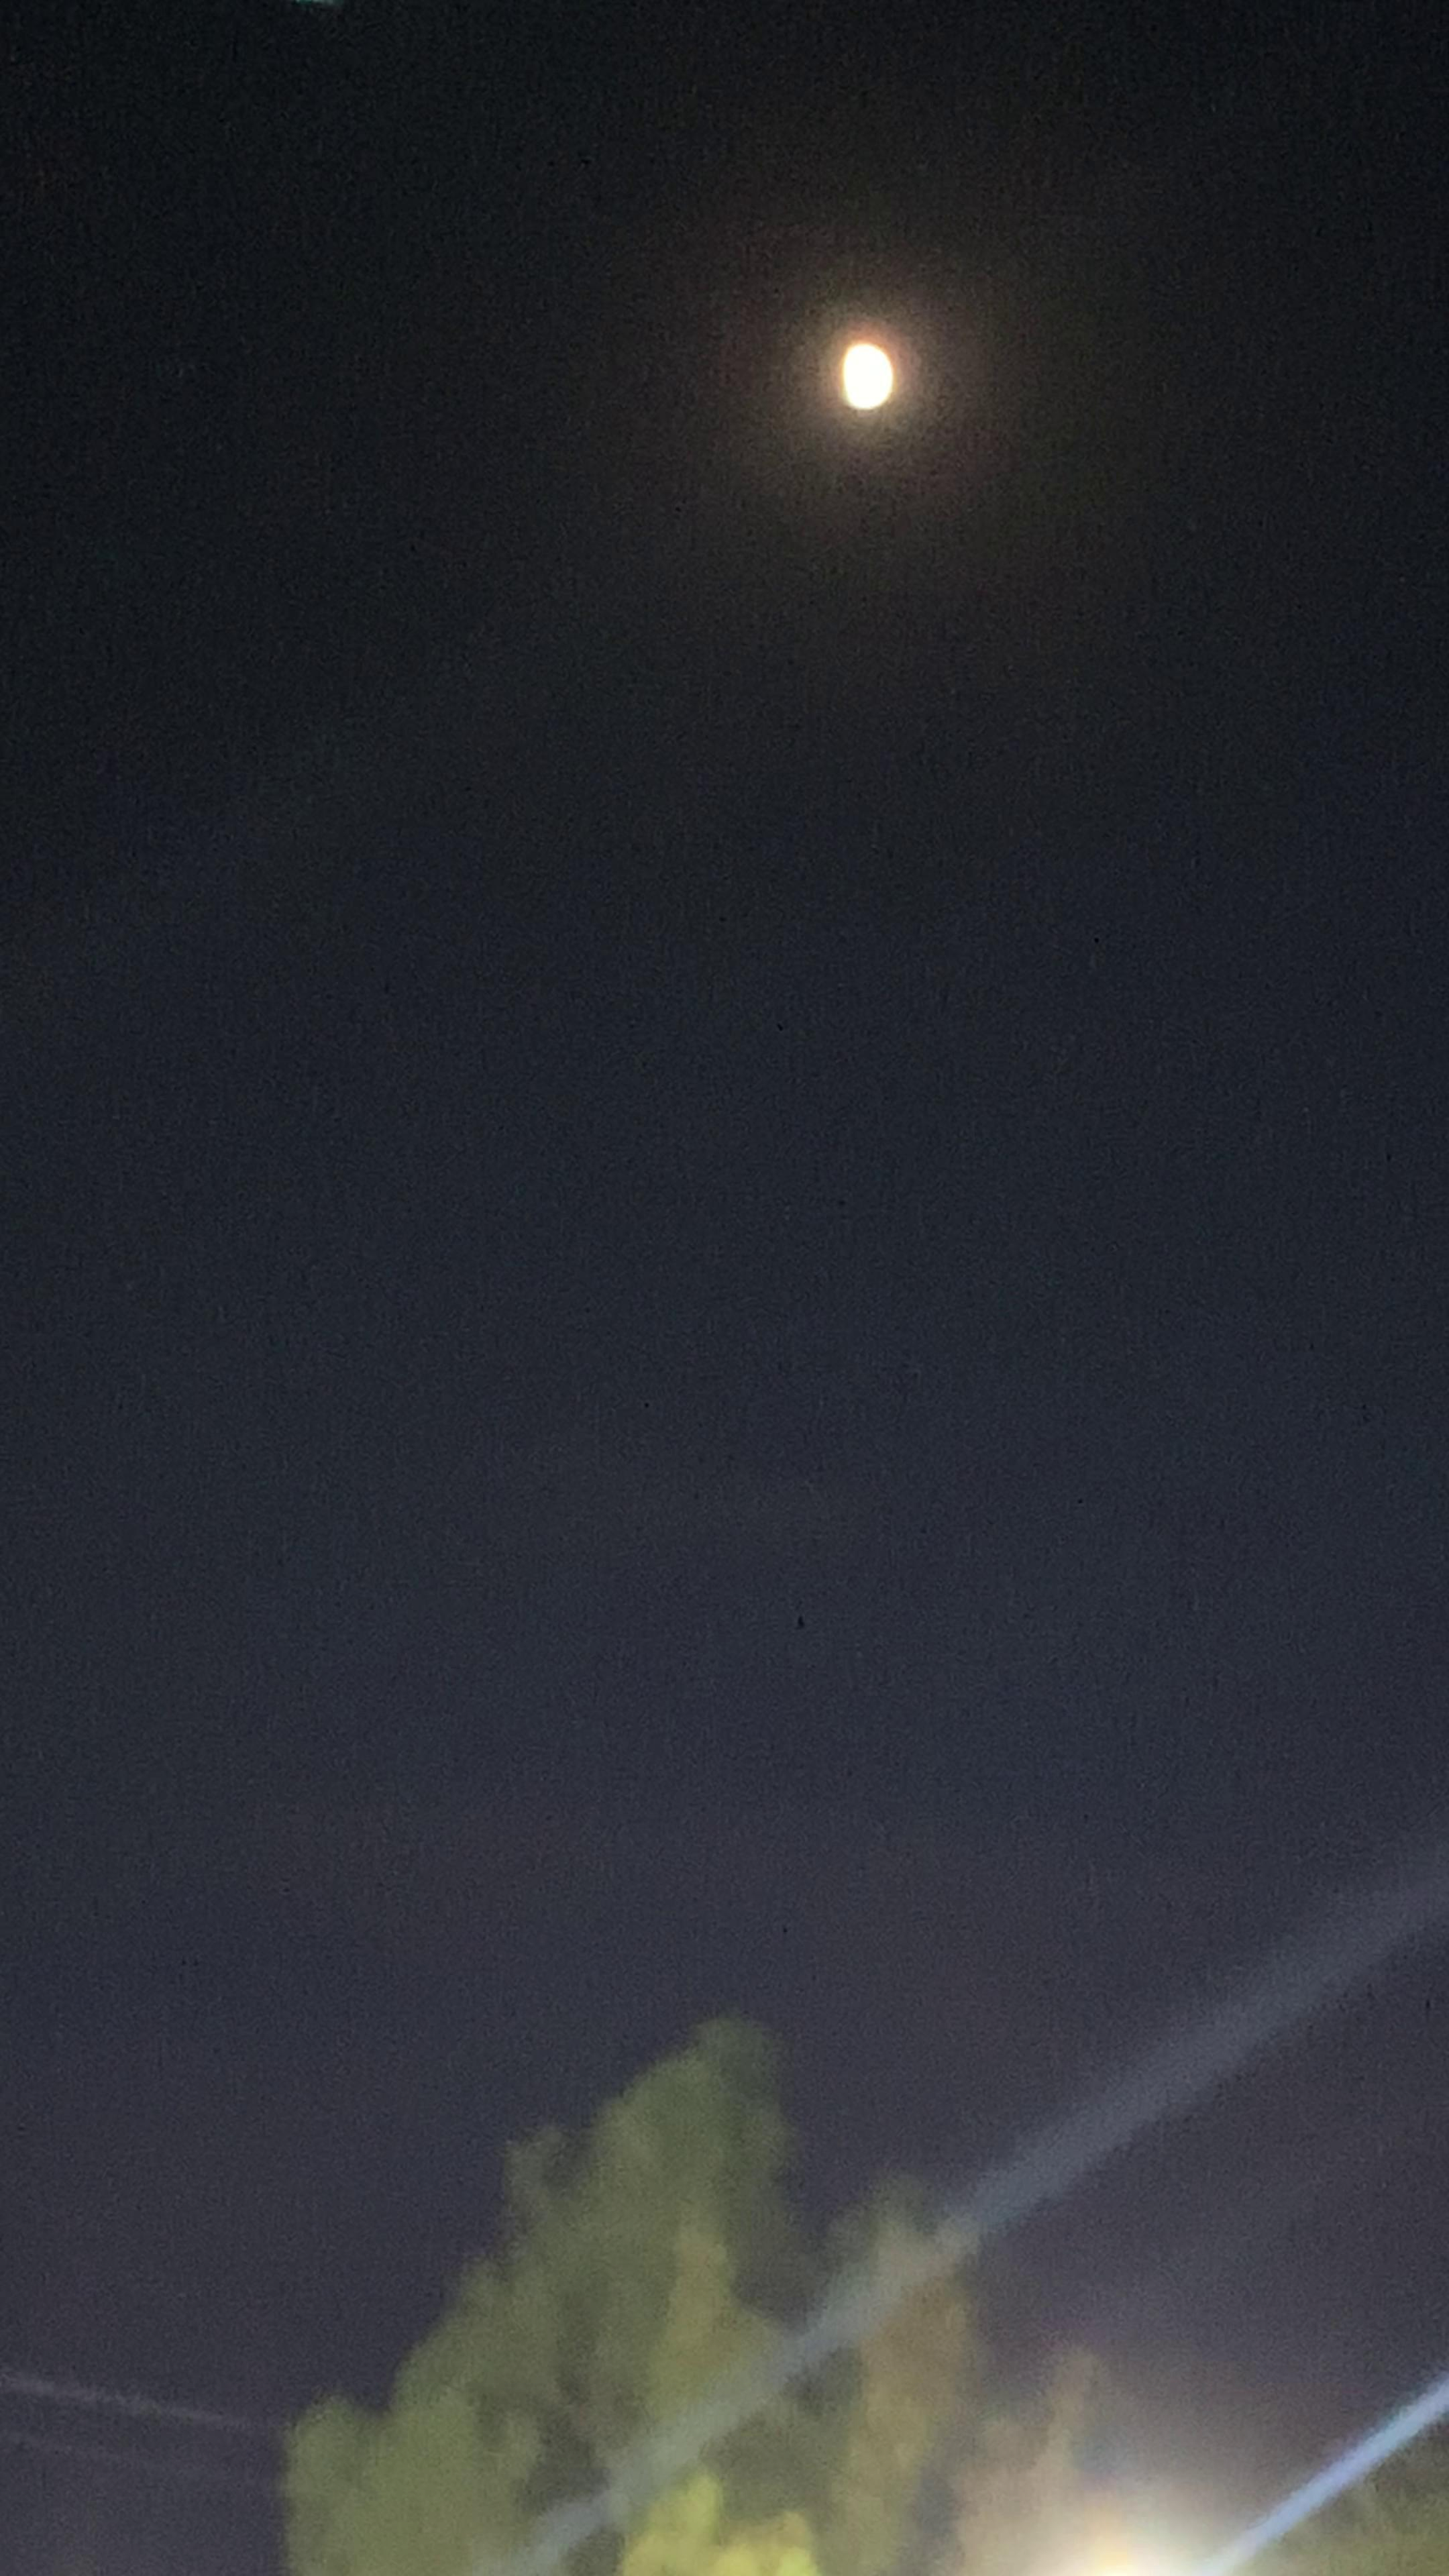moon: (801, 318, 920, 446)
